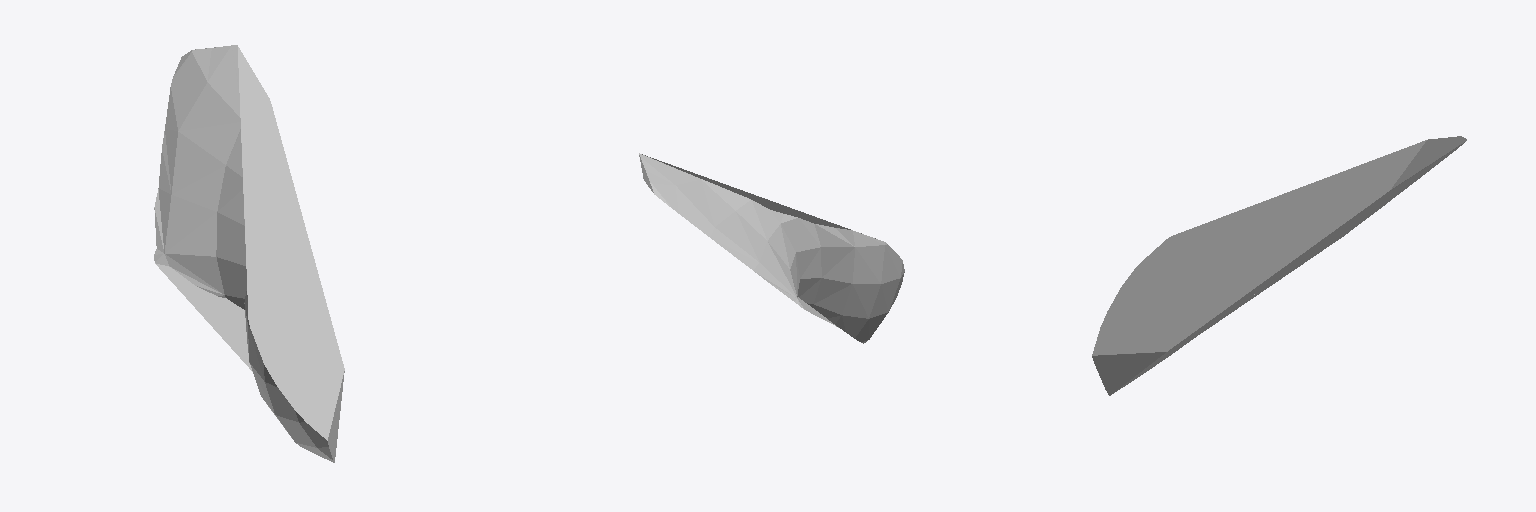
Rendered from FracturePartFracture_004.obj.
3 views of the same model, side by side, from view 1: azimuth 30°, elevation 25°; view 2: azimuth 150°, elevation 25°; view 3: azimuth 270°, elevation 25° (orthographic).
Visible parts, largest first — view 1: Fracture.004; view 2: Fracture.004; view 3: Fracture.004.
Part boxes in pixels (x1,y1,x2,y2): Fracture.004: (154, 45, 344, 462); Fracture.004: (639, 153, 904, 343); Fracture.004: (1092, 136, 1466, 395).
Size of the model in its own units: 0.8146 by 1.61 by 1.92.